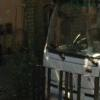Bus: (40, 3, 100, 99)
